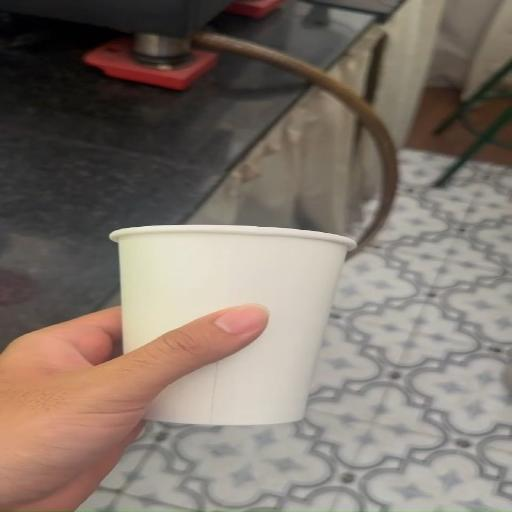Ly_giay: (110, 225, 354, 425)
